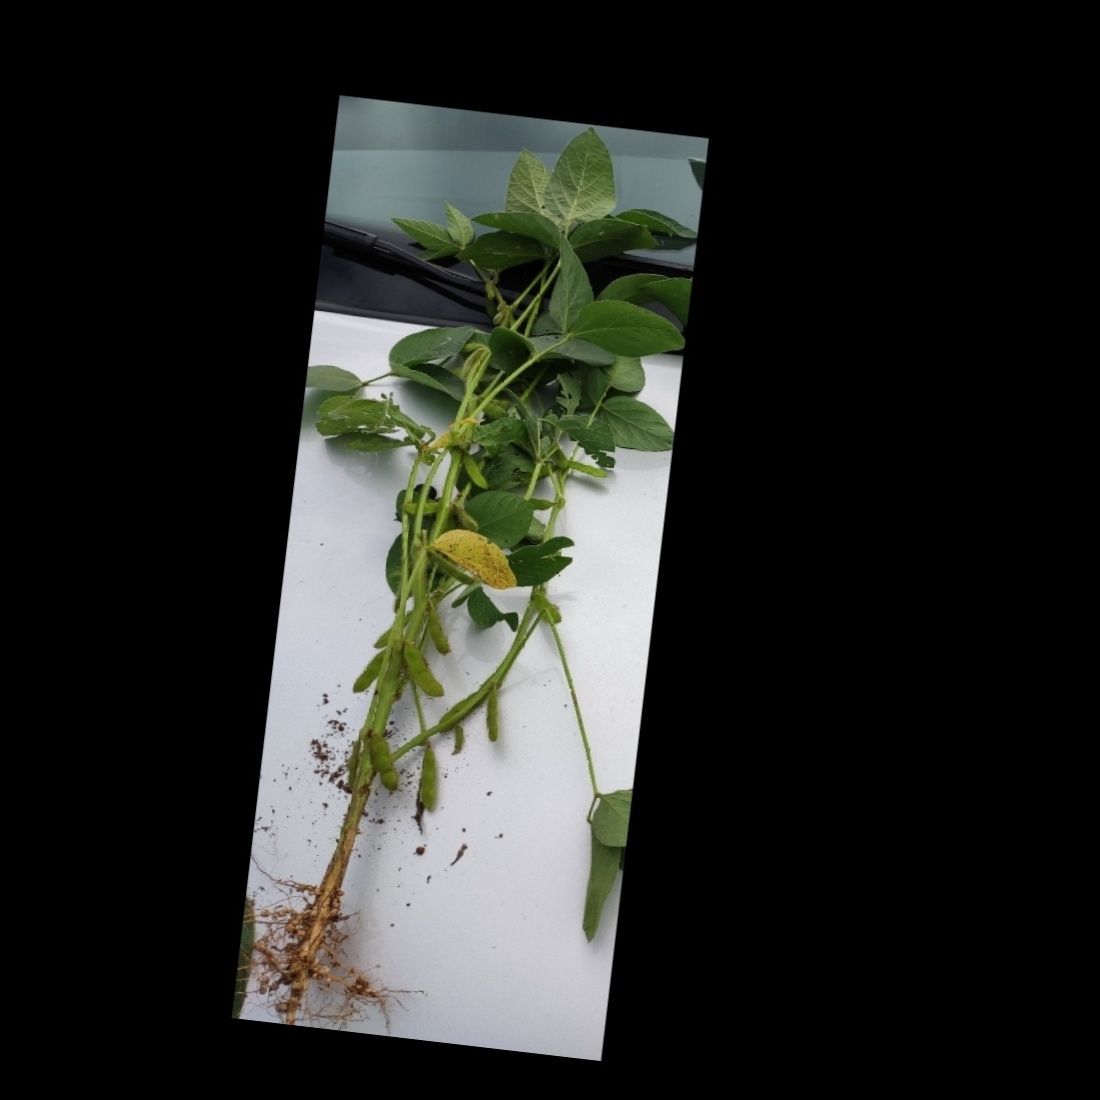pod: (395, 638, 454, 700), (411, 731, 449, 817), (364, 734, 407, 793), (346, 639, 384, 697), (419, 602, 457, 658), (474, 684, 508, 747), (454, 446, 494, 491), (561, 459, 617, 482), (447, 723, 470, 760)
soy: (248, 107, 673, 1016)
